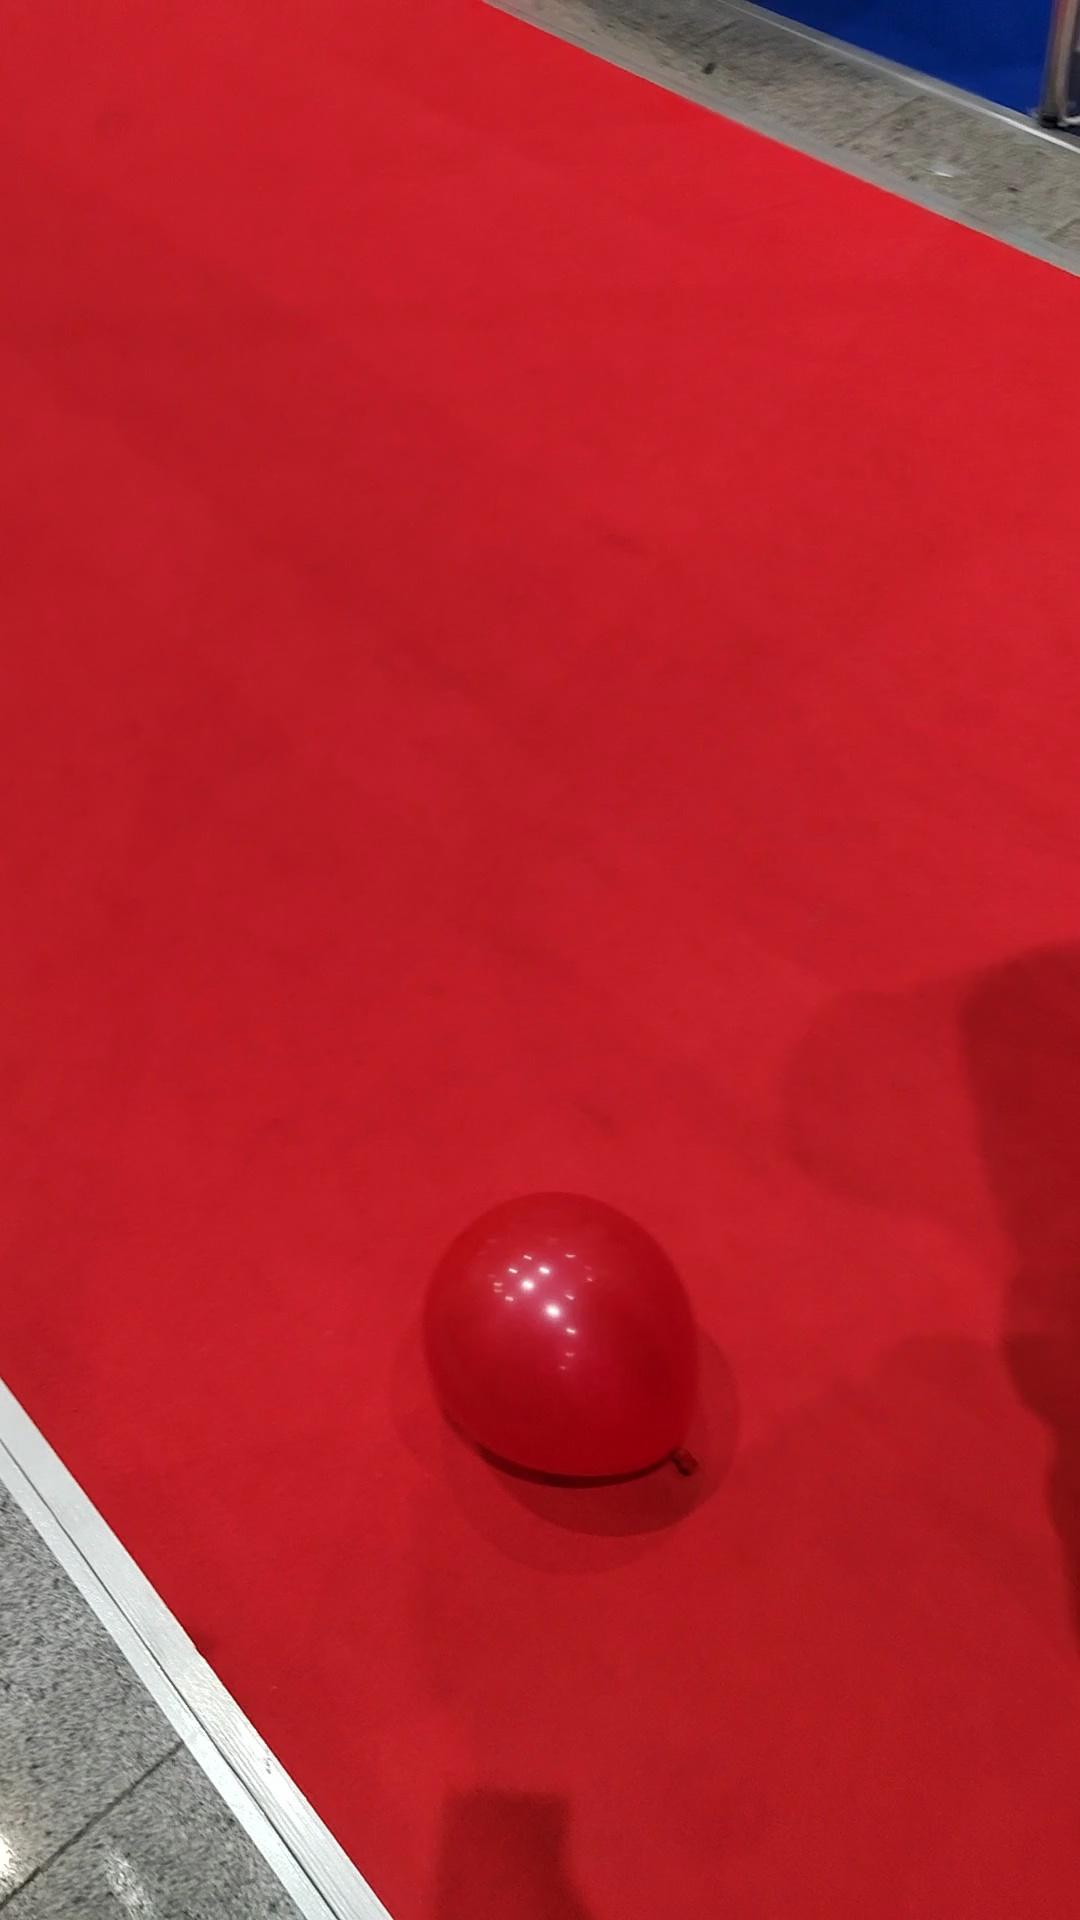red: (423, 1189, 699, 1485)
